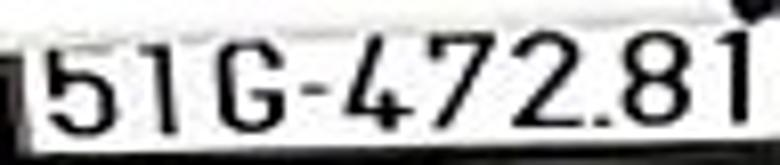-: (299, 81, 326, 97)
.: (596, 112, 610, 130)
1: (134, 42, 180, 139), (716, 30, 751, 125)
2: (510, 27, 583, 129)
4: (341, 34, 414, 131)
5: (49, 41, 117, 137)
7: (429, 33, 498, 127)
8: (624, 31, 689, 124)
G: (211, 41, 284, 131)
